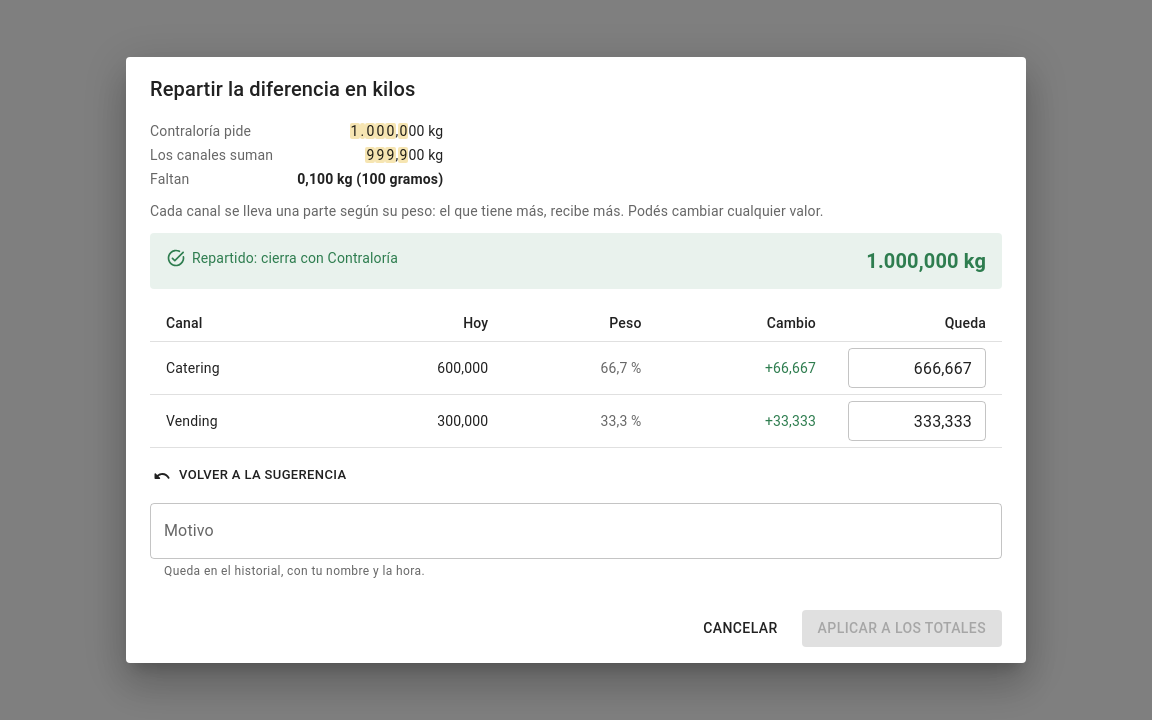
it: DiferenciaDialog › mientras escribís dice cuánto falta o sobra, y no deja aplicar hasta que cierre
Expected: the text "Repartido: cierra con Contraloría" is shown, [166,248,398,268]
Clear the field named "Queda en Catering" at (917, 368), box [848,348,986,388]
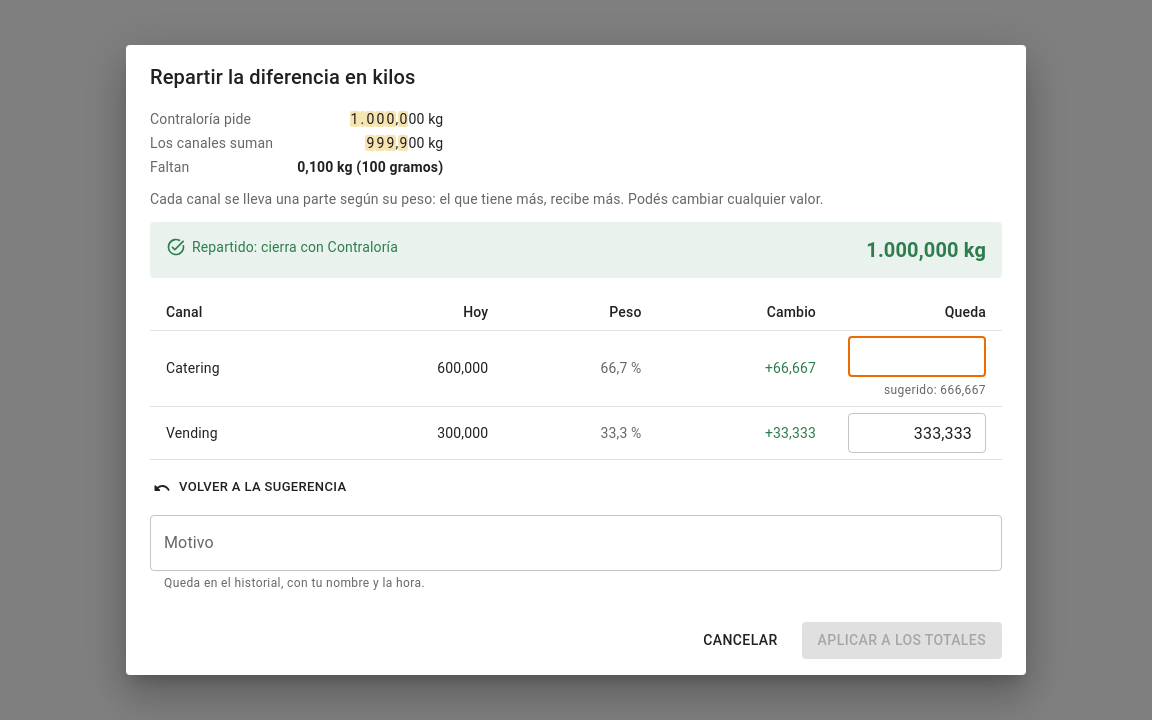
Type "546,667" into the field named "Queda en Catering".
click(917, 356); type("546,667")  # box [848,336,986,376]
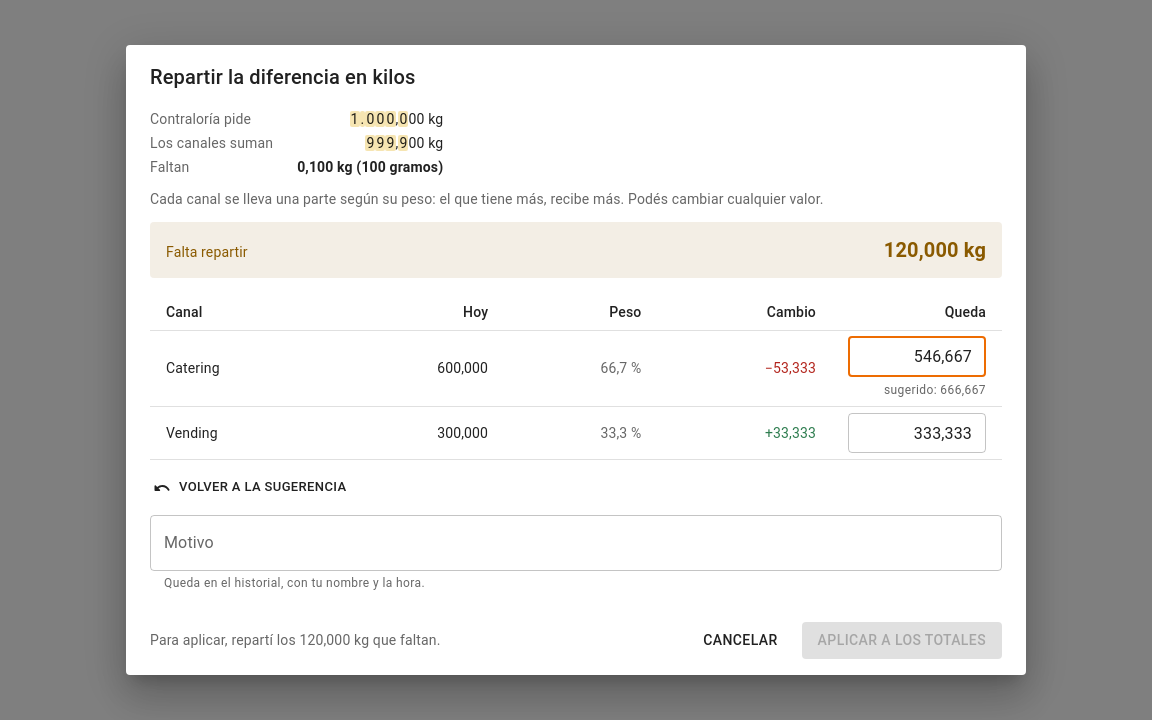
Expected: the text "Falta repartir" is shown, [166,242,248,262]
Expected: the message shows "120,000", [884,238,986,262]
Expected: the text "−53,333" is shown, [657,330,832,407]
Replace the text in the field named "Queda en Catering" with "700" at (917, 356), box [848,336,986,376]
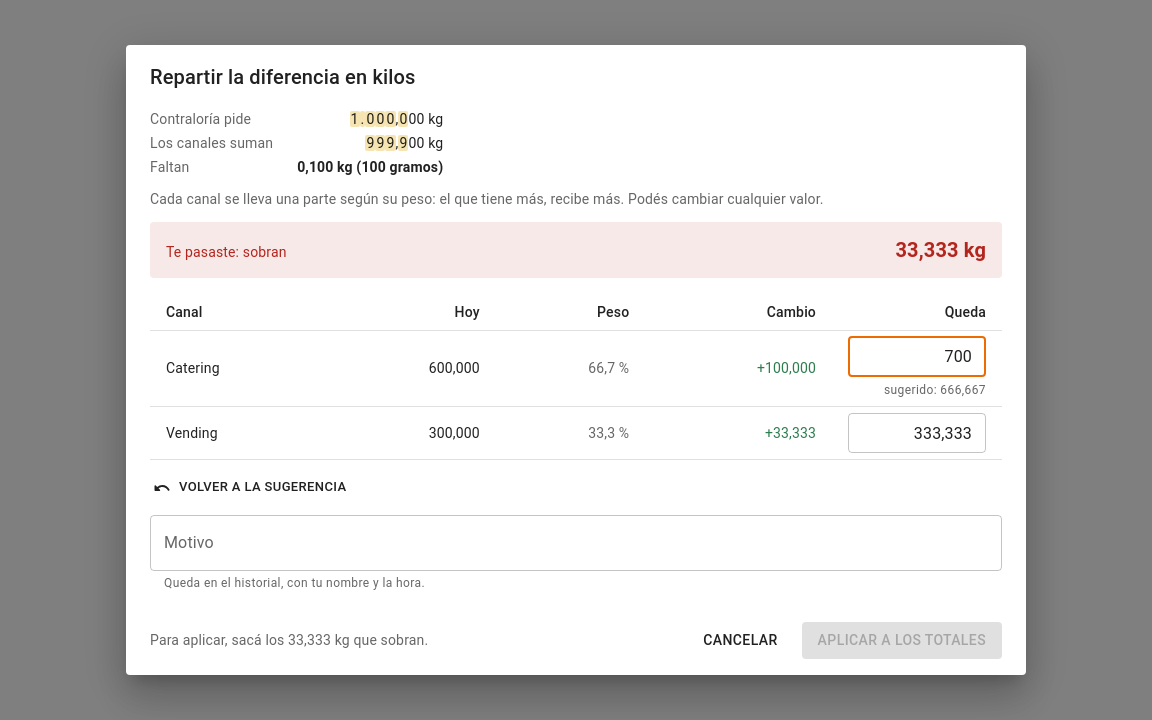
Expected: the text "Te pasaste: sobran" is shown, [166,242,287,262]
Expected: the message shows "33,333", [896,238,986,262]
Expected: the text "Para aplicar, sacá los 33,333 kg que sobran." is shown, [150,630,428,650]
Replace the text in the field named "Queda en Catering" with "mucho" at (917, 356), box [848,336,986,376]
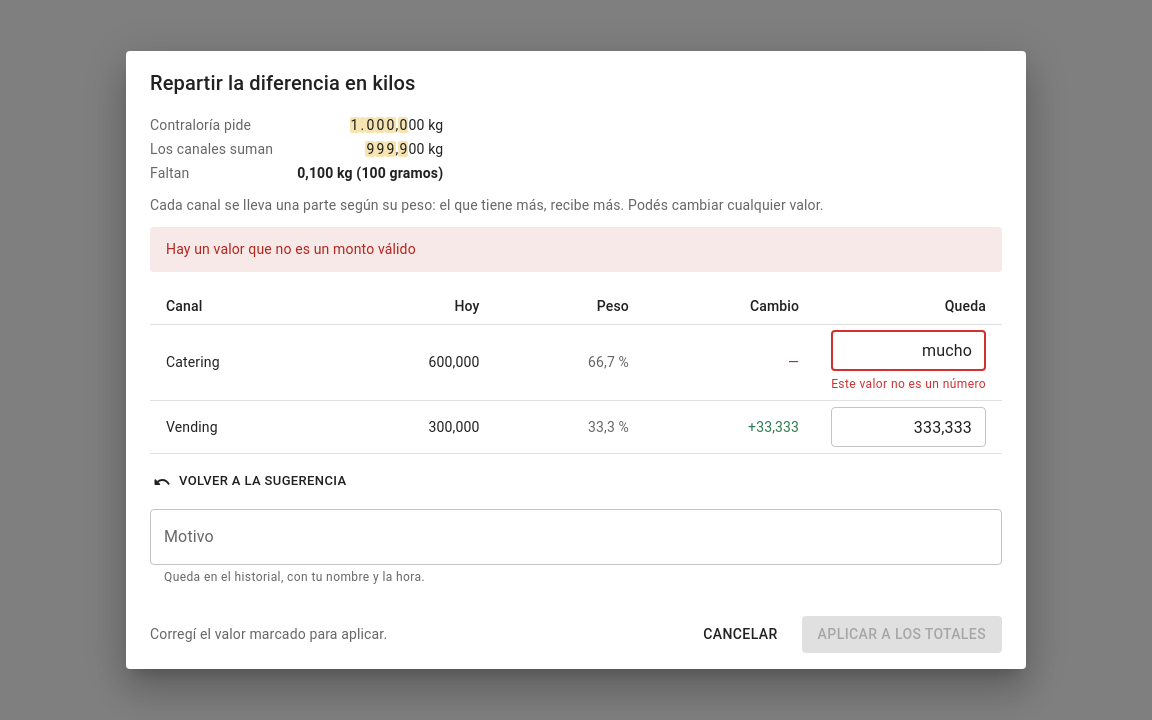
Expected: the text "Este valor no es un número" is shown, [831,374,986,394]
Click the button "Volver a la sugerencia".
click(251, 482)  # box [150,466,352,497]
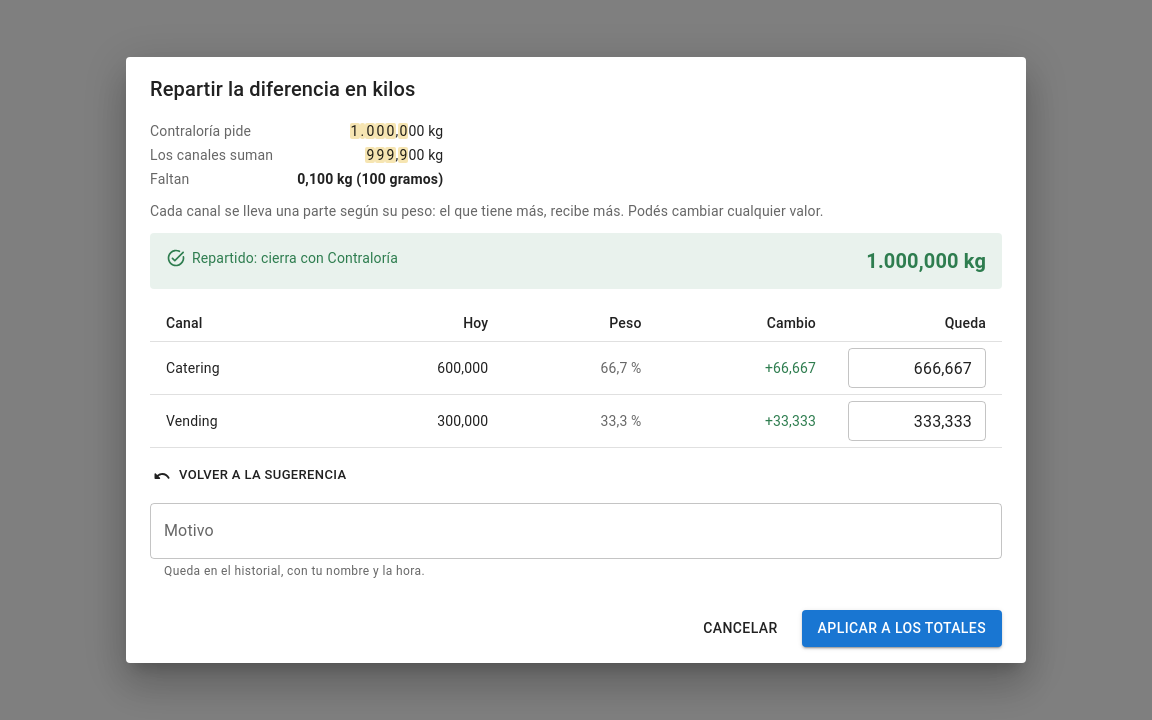
Expected: the text "Repartido: cierra con Contraloría" is shown, [166,248,398,268]
Expected: the field named "Queda en Catering" holds "666,667", [848,348,986,388]
